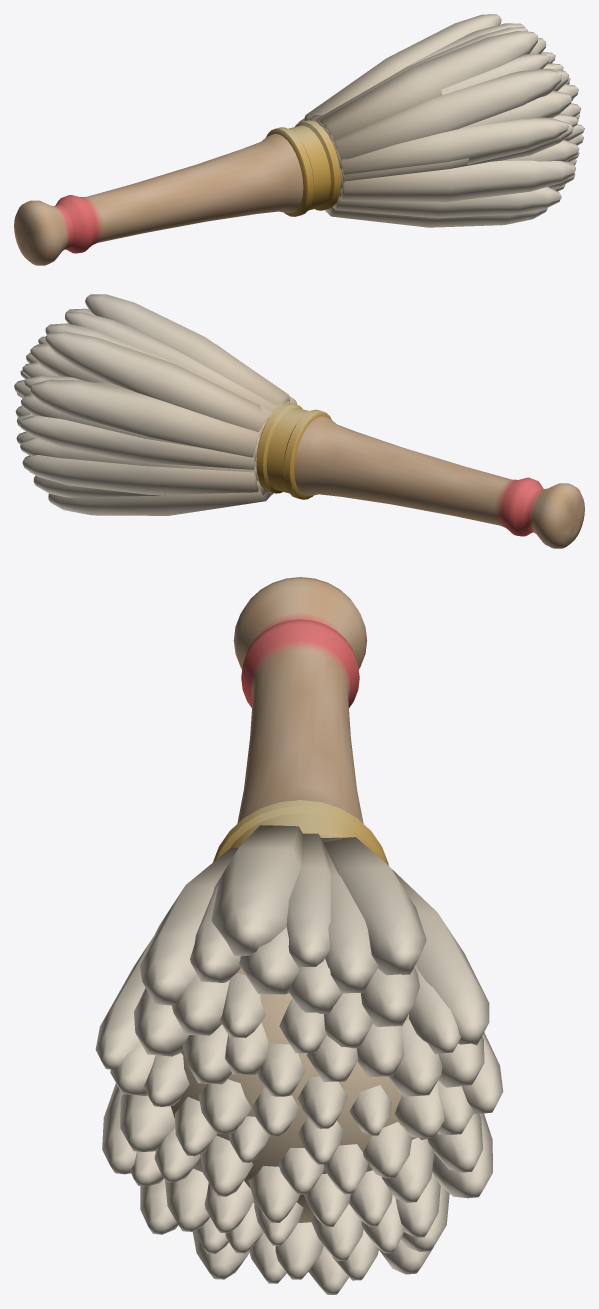
Rendered from brush.glb.
3 renders of one model, top to bottom at view 1: azimuth 30°, elevation 25°; view 2: azimuth 150°, elevation 25°; view 3: azimuth 270°, elevation 25°, orthographic. The views are drawn at different scales.
Visible parts, largest first — view 1: Bristles, Handle; view 2: Bristles, Handle; view 3: Bristles, Handle.
Boxes of the visible parts, <box> form: Bristles: <box>298,14,584,227</box>; Handle: <box>14,120,341,265</box>; Bristles: <box>14,294,297,515</box>; Handle: <box>256,402,584,548</box>; Bristles: <box>95,825,503,1294</box>; Handle: <box>213,577,388,865</box>.
Bounding box in the file's own units: 0.1703 × 0.055 × 0.055.
